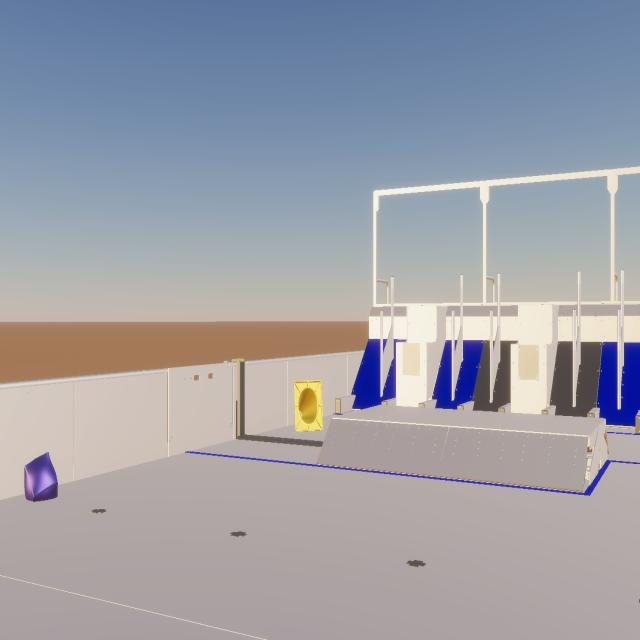frc_cone: (294, 381, 323, 432)
frc_cube: (24, 452, 58, 502)
